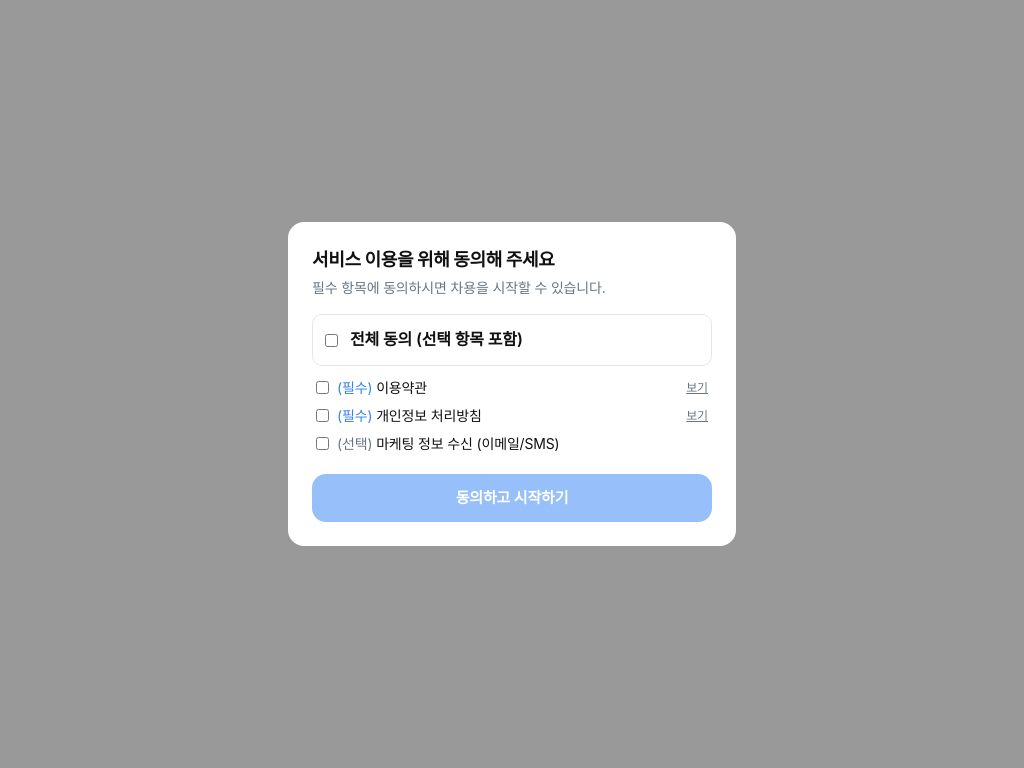
it: ConsentModal › disables submit until both required boxes are checked
This screenshot has width=1024, height=768.
Expected: the button "동의하고 시작하기" is disabled, [312,474,712,522]
Click the checkbox labelled "(필수) 이용약관". click: coordinates (322, 388)
box: [316,381,329,394]
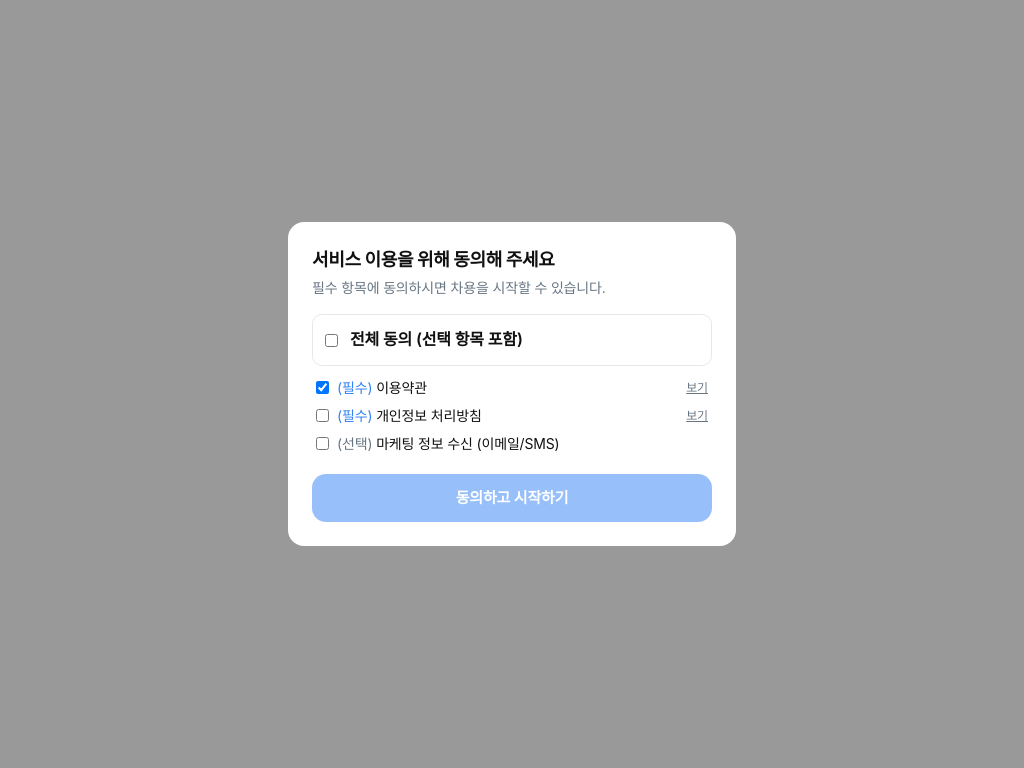
Expected: the button "동의하고 시작하기" is disabled, [312,474,712,522]
Click the checkbox labelled "(필수) 개인정보 처리방침". click: coordinates (322, 416)
box: [316,409,329,422]
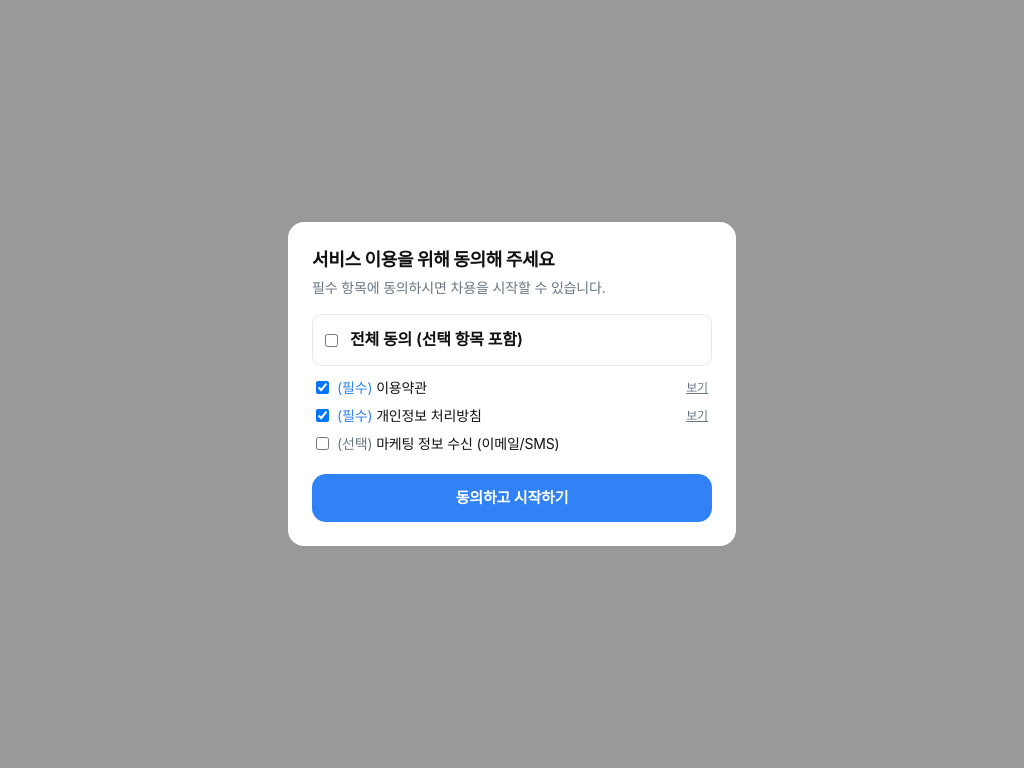
Now the button "동의하고 시작하기" is enabled, box [312,474,712,522]
